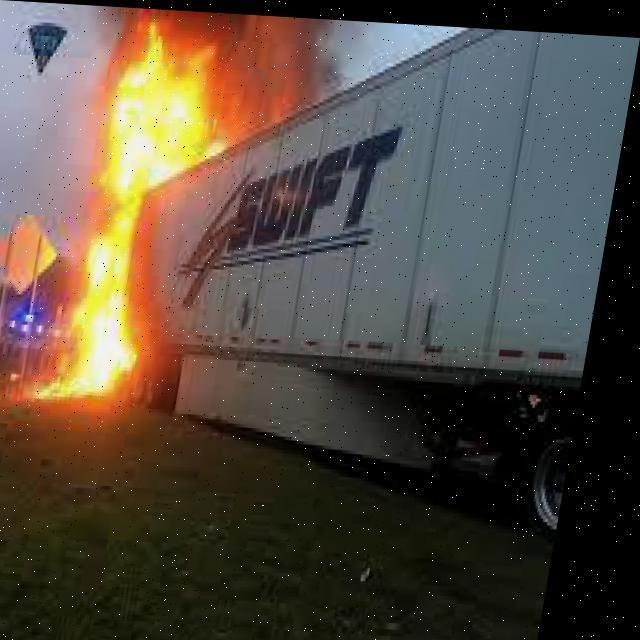Fire: (29, 20, 264, 418)
